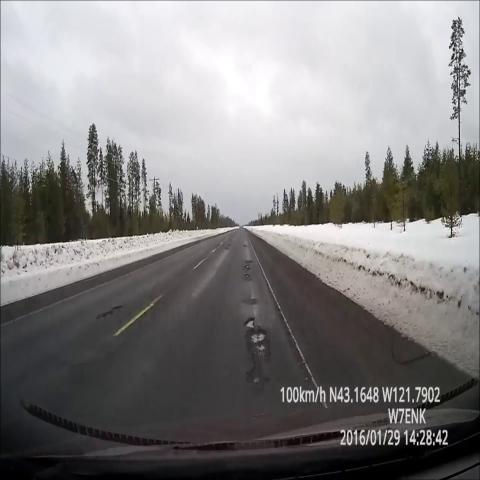pothole: (240, 305, 278, 396), (92, 295, 122, 337), (238, 249, 258, 286), (243, 286, 262, 312), (238, 235, 248, 255), (223, 235, 234, 253)
